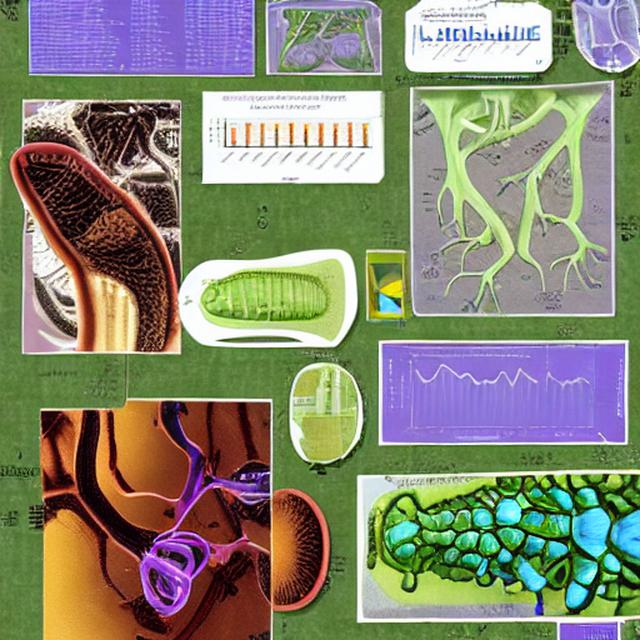Graph: (204, 93, 375, 182), (396, 350, 547, 443), (410, 12, 499, 63)
